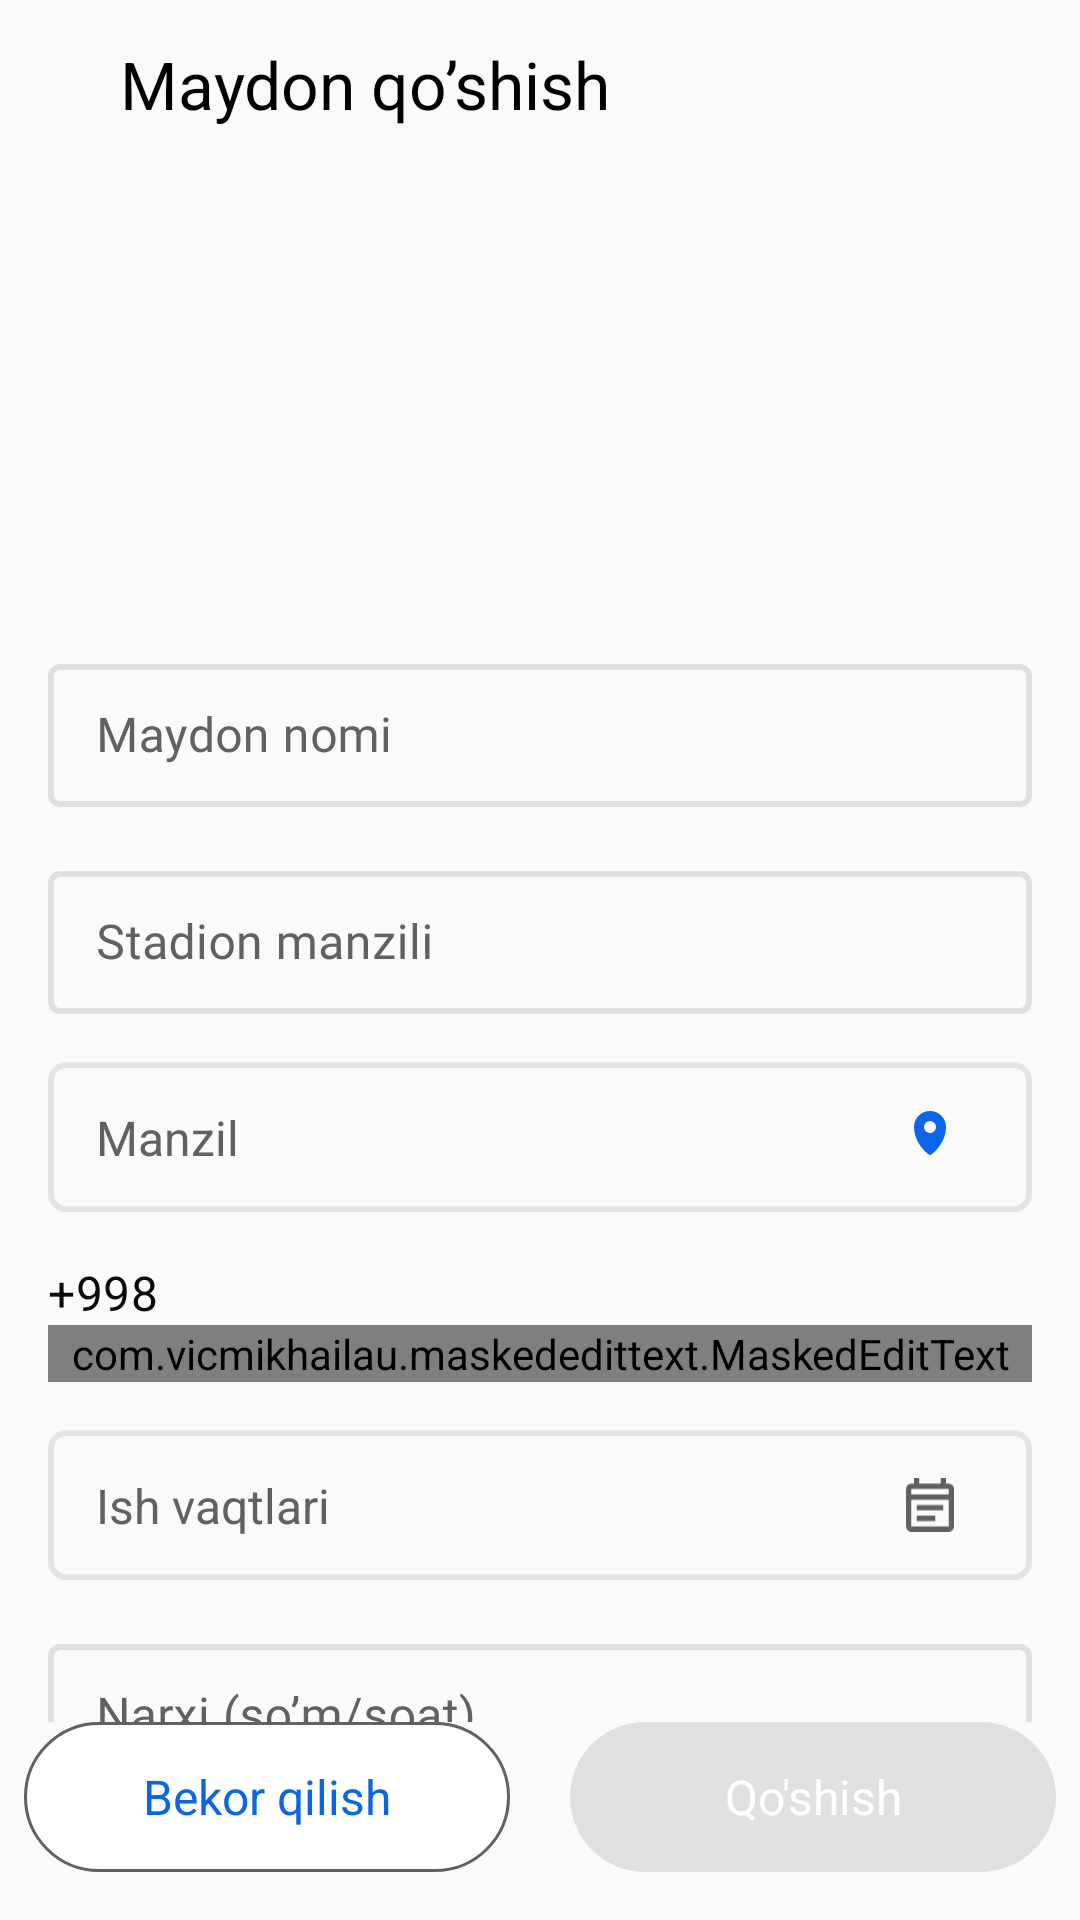

Named icons in this screenshot (1080×1920) and their bounding boxes, (x1, y1, x2, y2):
location: (914, 1111, 946, 1155)
work time: (906, 1478, 954, 1532)
